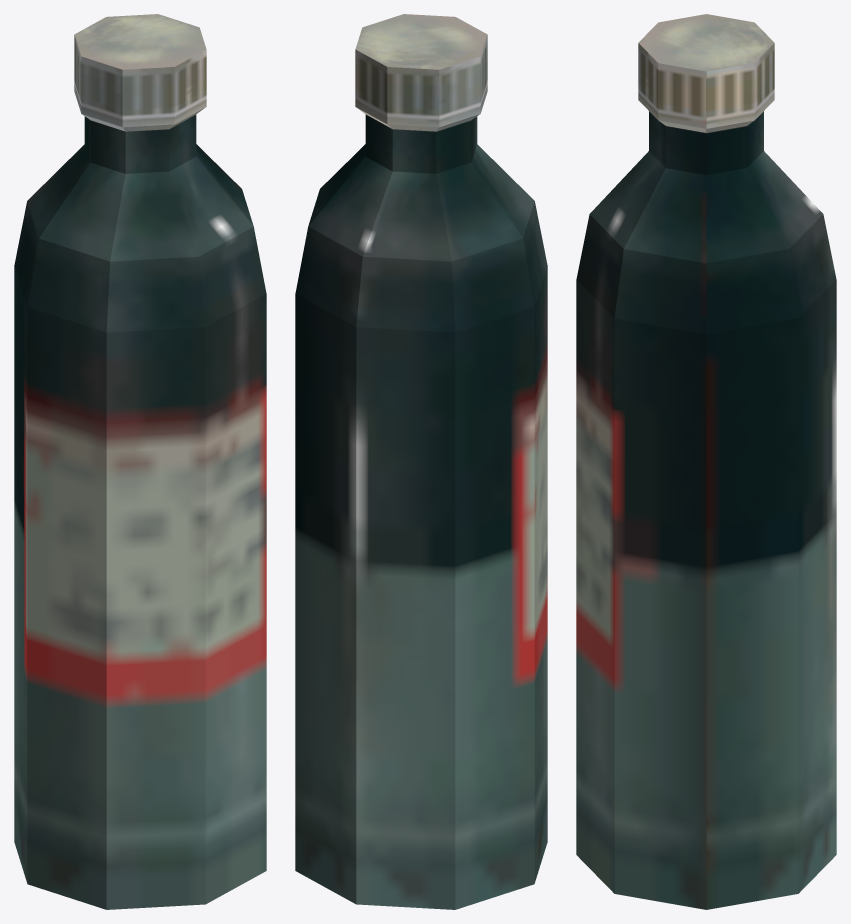
The model's file is jar_large_7.fbx.
3 views of the same model, side by side, from view 1: azimuth 30°, elevation 25°; view 2: azimuth 150°, elevation 25°; view 3: azimuth 270°, elevation 25° (orthographic).
Visible parts, largest first — view 1: mesh_0; view 2: mesh_0; view 3: mesh_0.
Part boxes in pixels (x1,y1,x2,y2): mesh_0: (14,14,266,909); mesh_0: (295,14,547,909); mesh_0: (576,14,836,909).
Bounding box in the file's own units: 8.71 × 30 × 8.71.
1 material, 1 textured.
